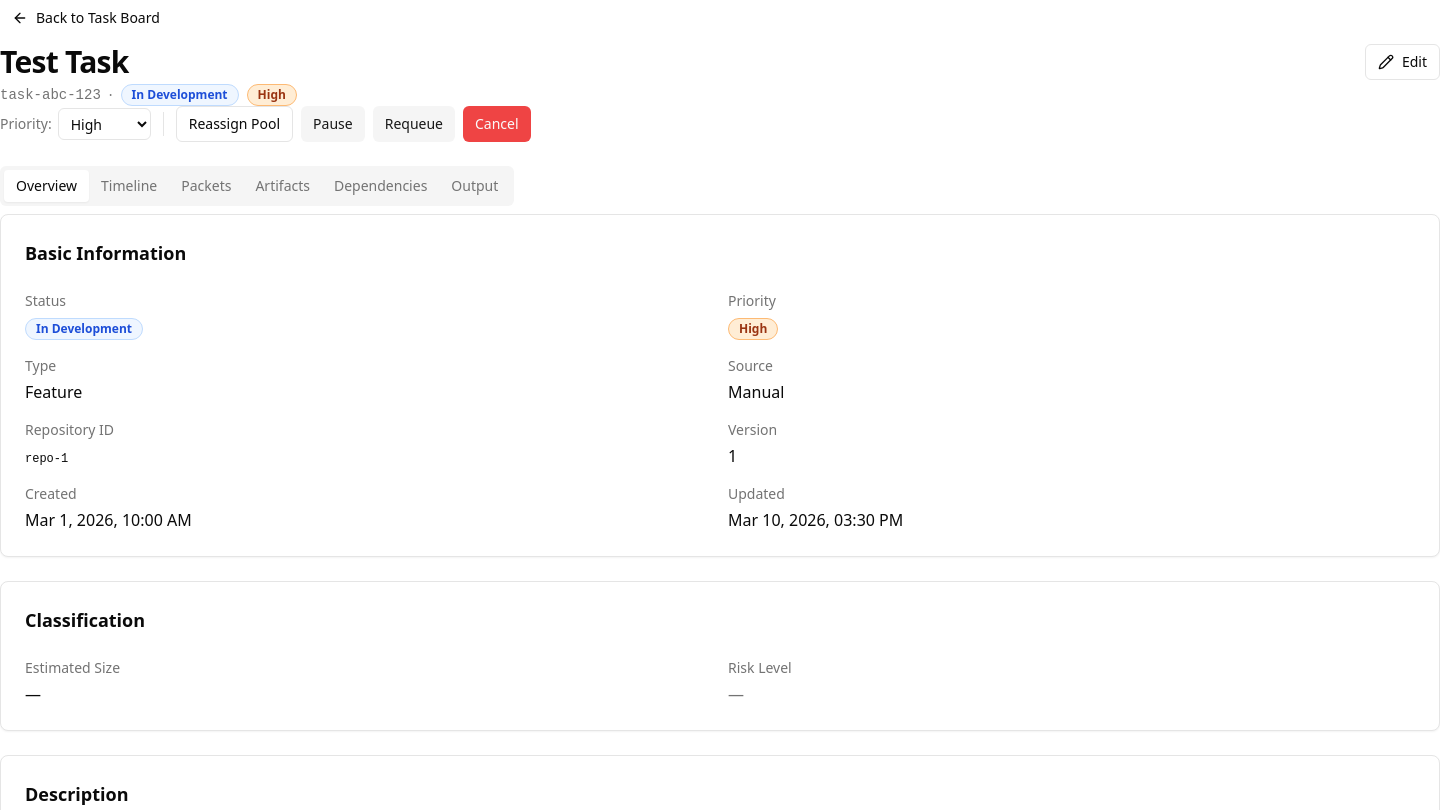
TaskActionBar integration › shows acknowledge checkbox for cancel on IN_DEVELOPMENT
The width and height of the screenshot is (1440, 810).
Click the button with test id "action-btn-cancel".
click(497, 124)  # box 463,106 -> 531,142
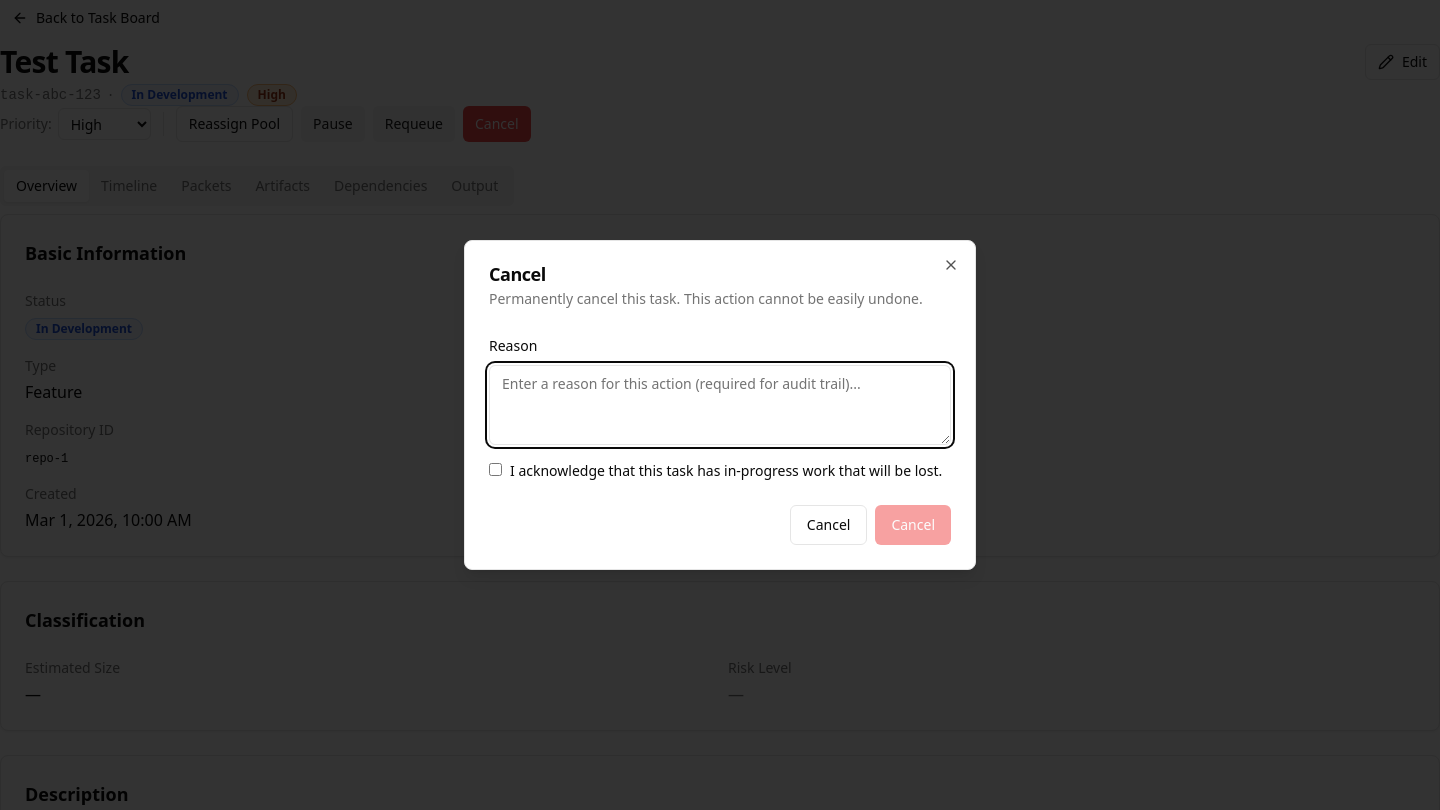
expect the dialog with test id "confirm-action-dialog" is shown: met, box 464,240 -> 976,570
expect the label with test id "acknowledge-in-progress" is shown: met, box 489,461 -> 951,481
Note: Type reason but don't check box — submit should still be disabled
Type "No longer needed" into the text box with test id "confirm-dialog-reason".
click(720, 405); type("No longer needed")  # box 489,365 -> 951,445
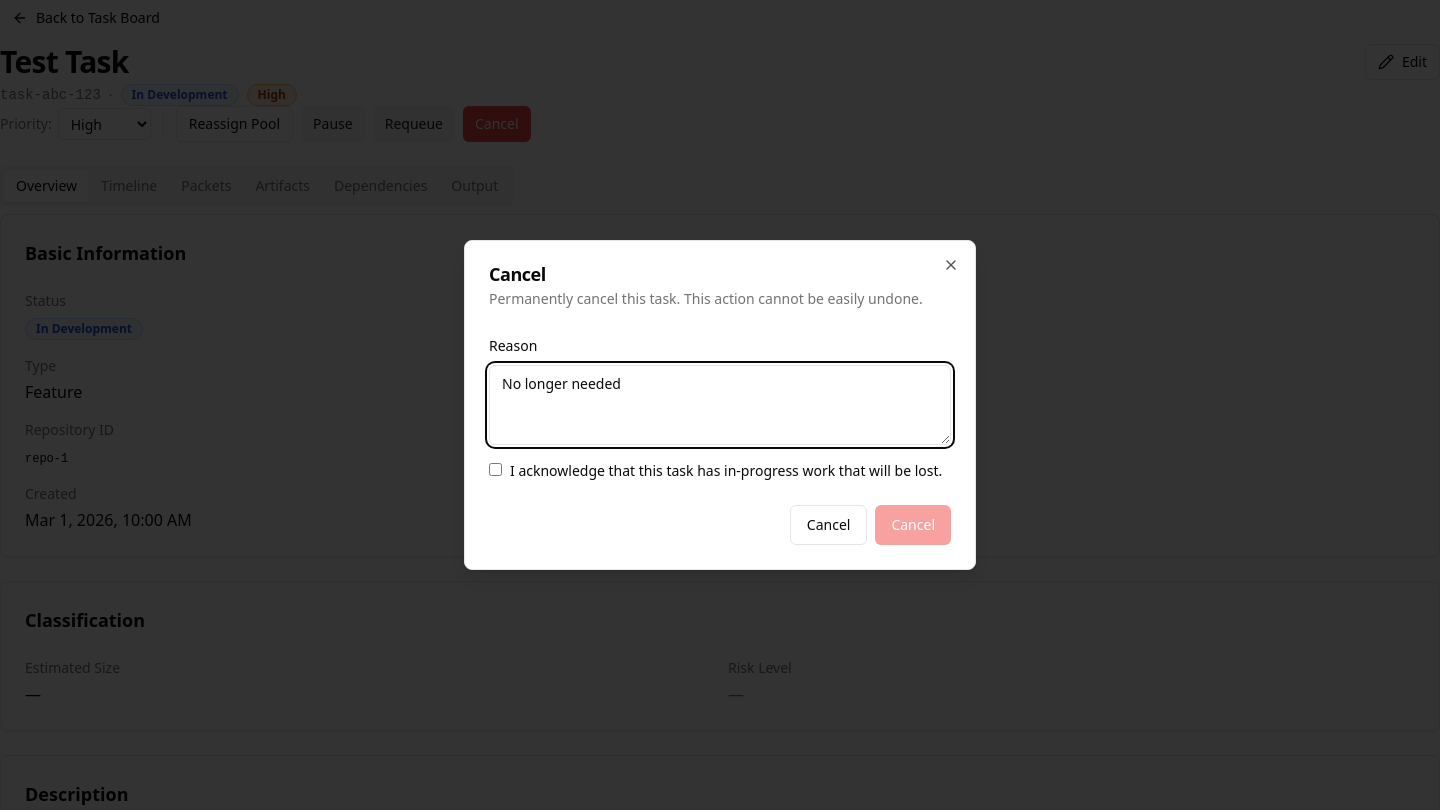
expect the button with test id "confirm-dialog-submit" is disabled: met, box 875,505 -> 951,545
Note: Check the box — submit should become enabled
Click the checkbox.
click(496, 470)  # box 489,463 -> 502,476
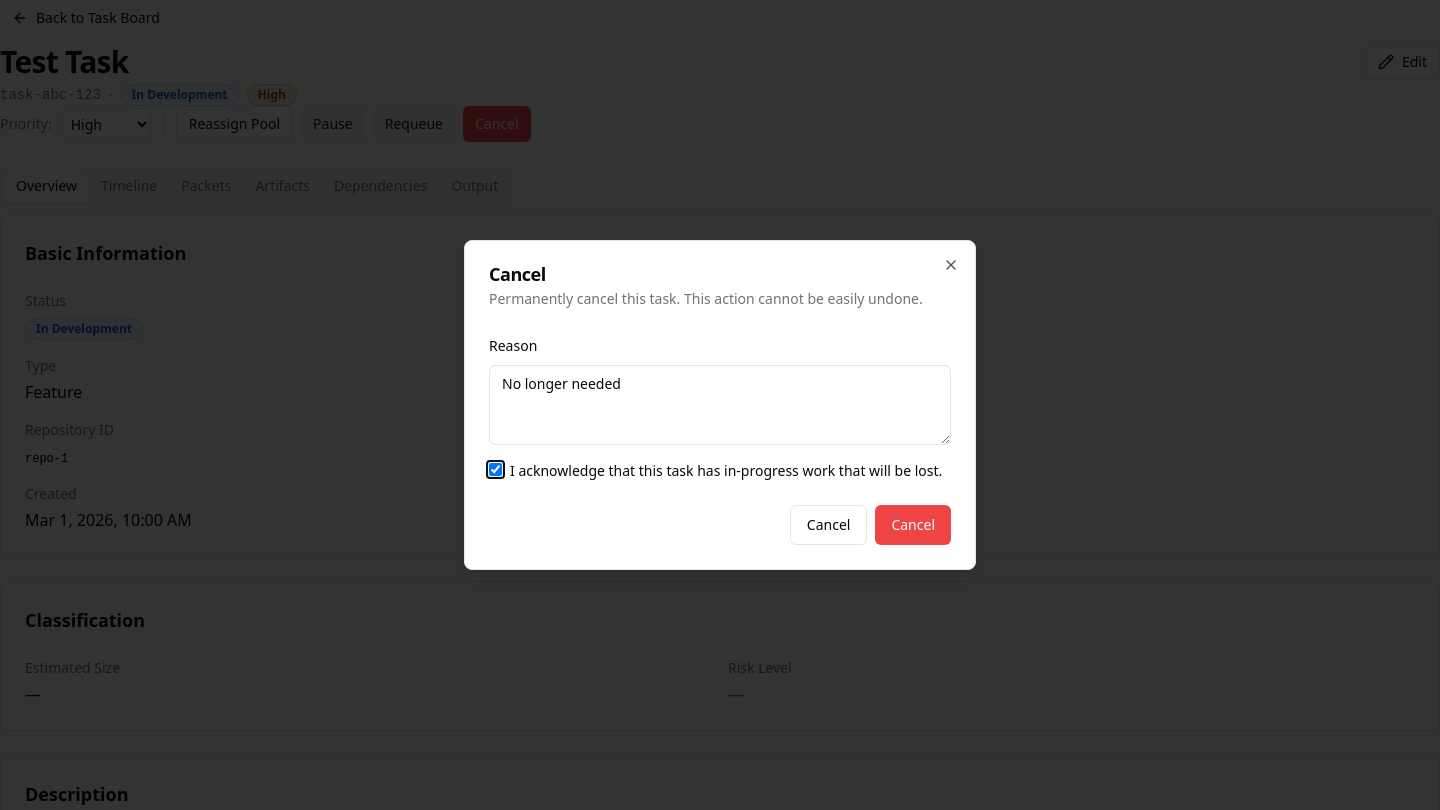
expect the button with test id "confirm-dialog-submit" is enabled: met, box 875,505 -> 951,545
